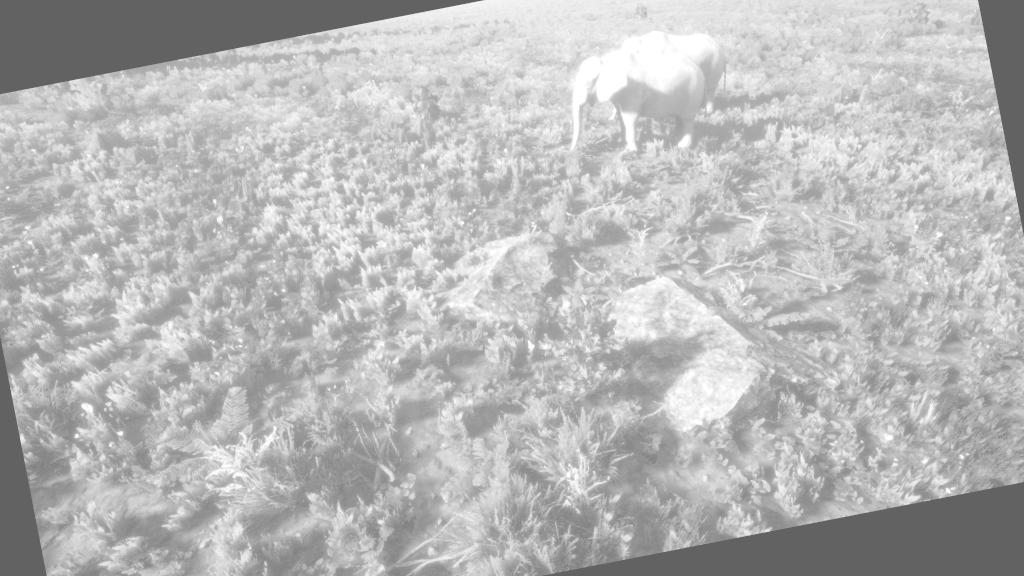elephant: (545, 30, 722, 190)
